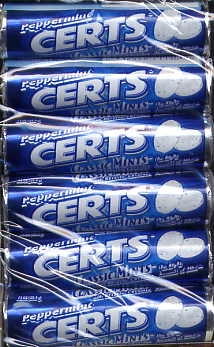grozi_23: (0, 0, 214, 346)
